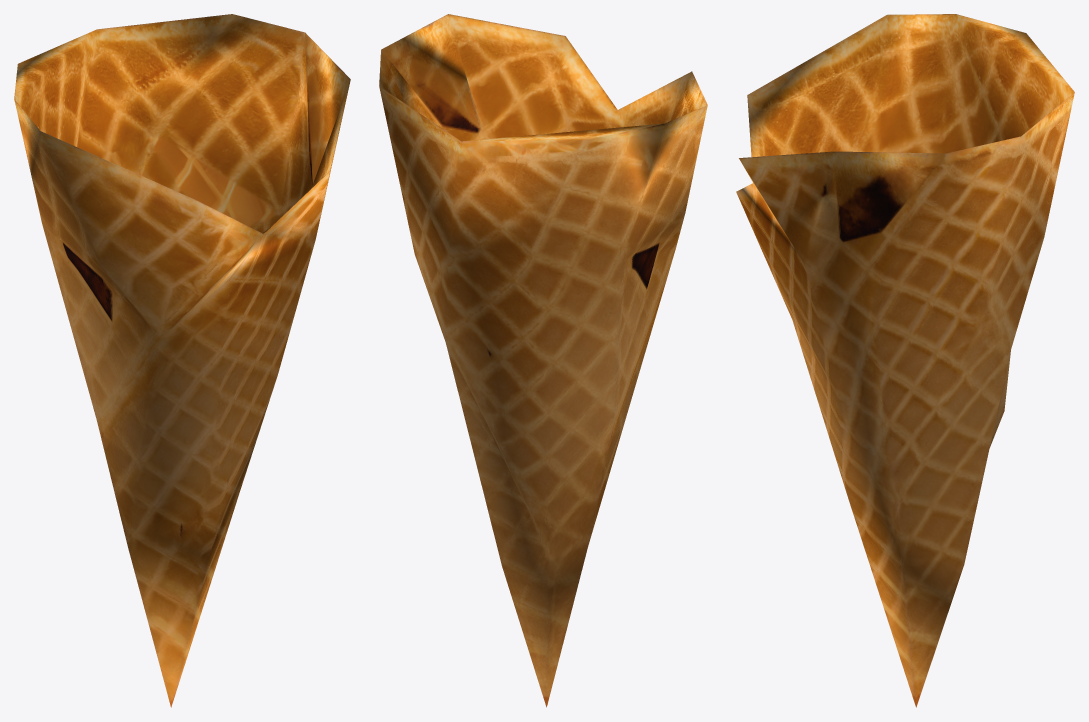
Rendered from Meshy_AI_Waffle_cone_0612074423_texture.fbx.
3 views of the same model, side by side, from view 1: azimuth 30°, elevation 25°; view 2: azimuth 150°, elevation 25°; view 3: azimuth 270°, elevation 25° (orthographic).
Visible parts, largest first — view 1: Mesh_0; view 2: Mesh_0; view 3: Mesh_0.
Part boxes in pixels (x1,y1,x2,y2): Mesh_0: (14, 14, 350, 707); Mesh_0: (379, 14, 707, 707); Mesh_0: (736, 14, 1074, 707).
Size of the model in its own units: 93.26 by 190 by 93.06.
1 material, 1 textured.
